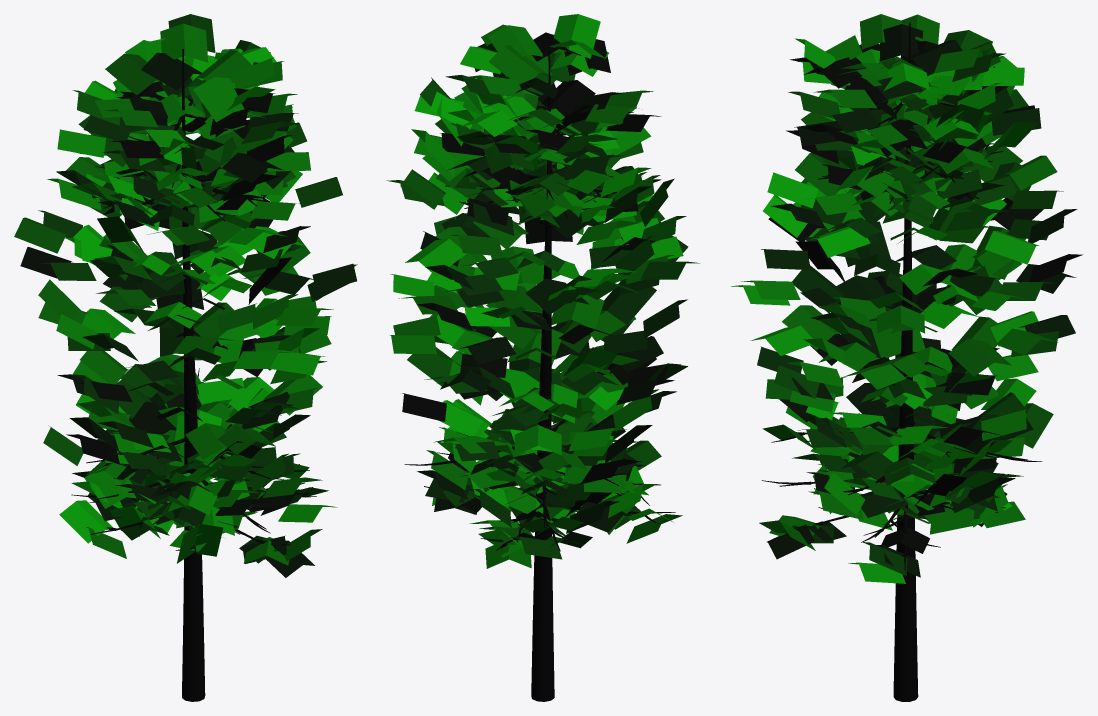
3 renders of one model, left to right at view 1: azimuth 30°, elevation 25°; view 2: azimuth 150°, elevation 25°; view 3: azimuth 270°, elevation 25°, orthographic. The views are drawn at different scales.
Visible parts, largest first — view 1: IL3DN_Tree_Birch_03_OneMesh_LOD0; view 2: IL3DN_Tree_Birch_03_OneMesh_LOD0; view 3: IL3DN_Tree_Birch_03_OneMesh_LOD0.
Part boxes in pixels (<box>): IL3DN_Tree_Birch_03_OneMesh_LOD0: <box>14,14,357,701</box>; IL3DN_Tree_Birch_03_OneMesh_LOD0: <box>386,14,699,701</box>; IL3DN_Tree_Birch_03_OneMesh_LOD0: <box>731,14,1082,701</box>.
Size of what is drawn, in the model's own units: 814 by 1785 by 855.
